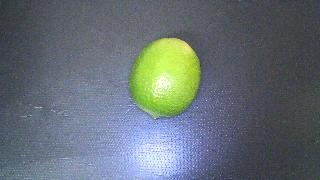EXPORTACION: (129, 38, 201, 119)
